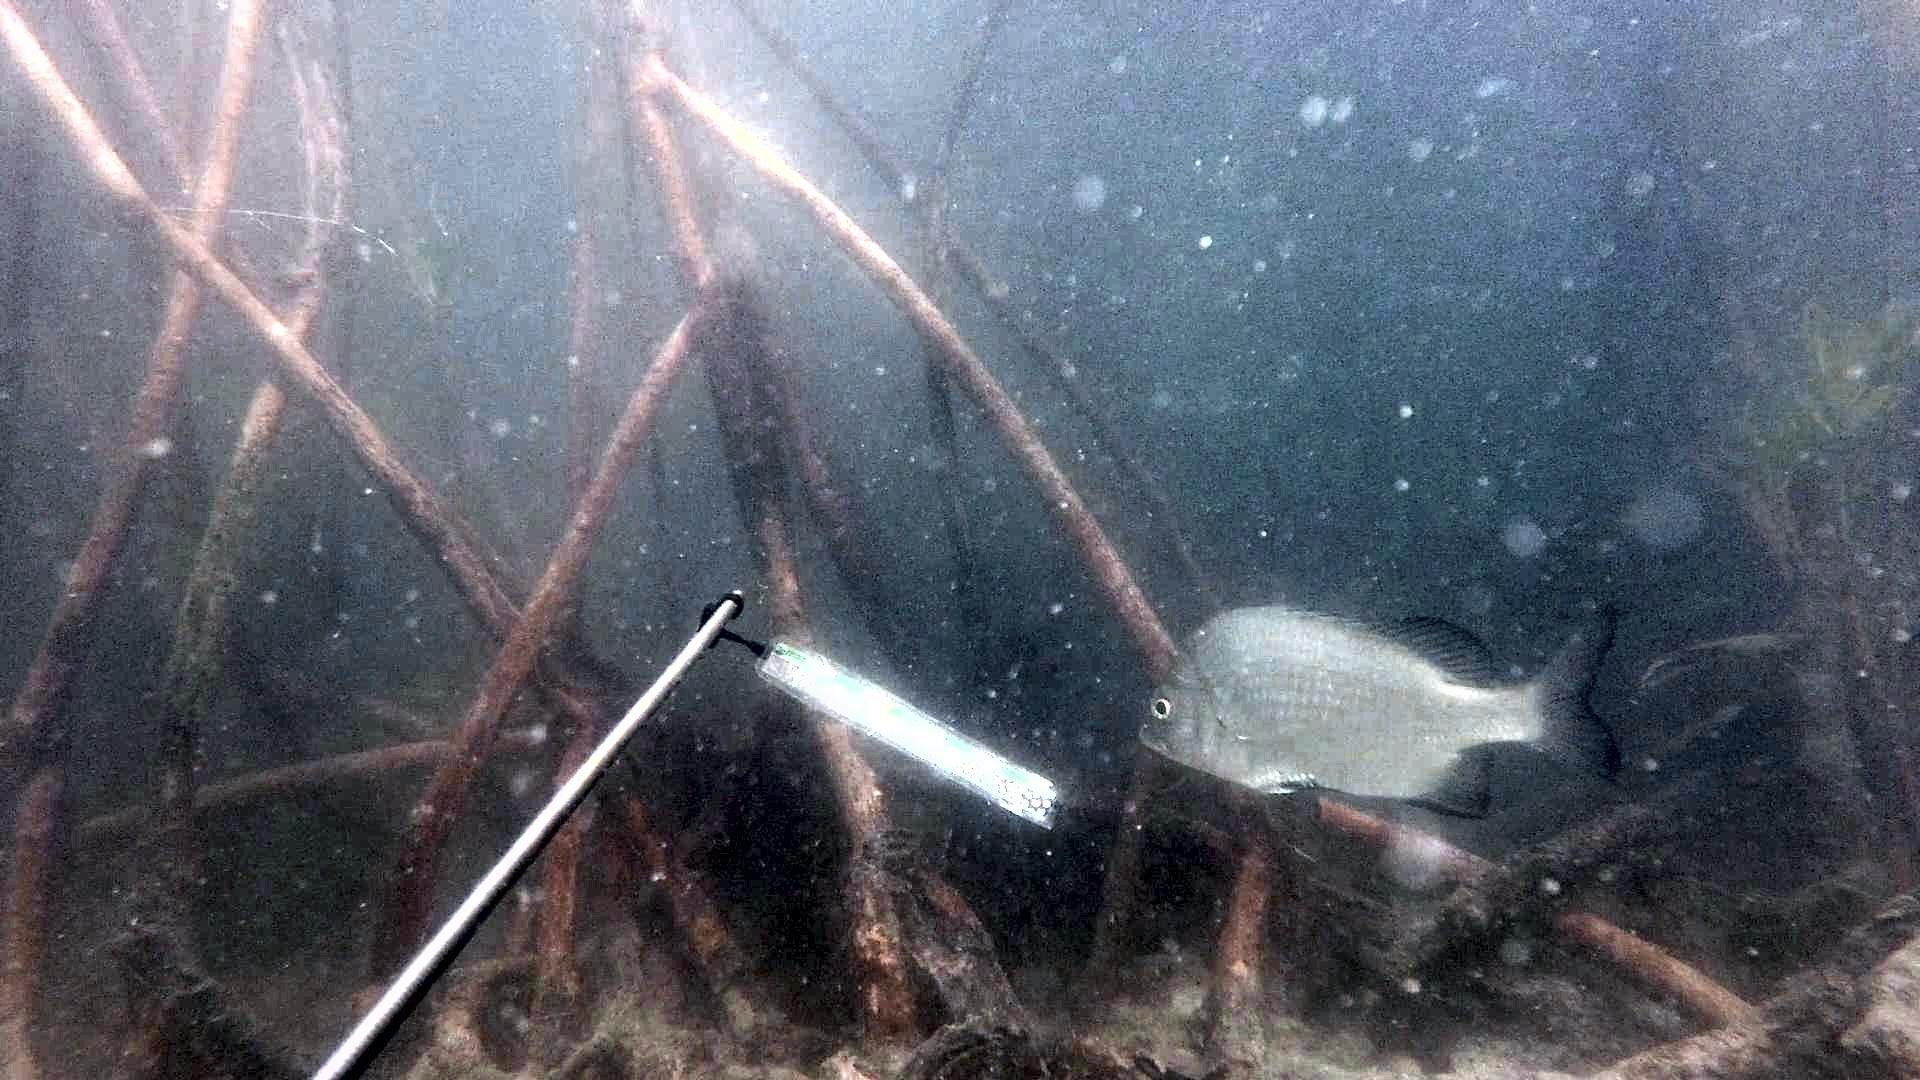acanthopagrus palmaris: (1133, 593, 1632, 868)
